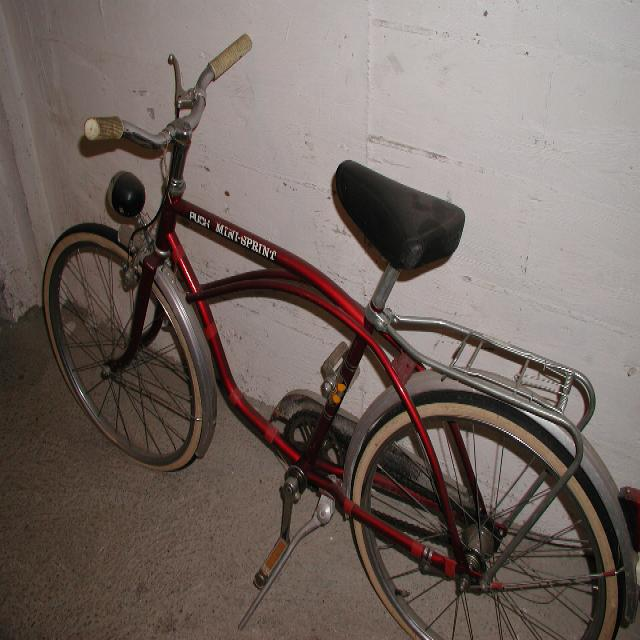bicycle: (40, 32, 632, 639)
